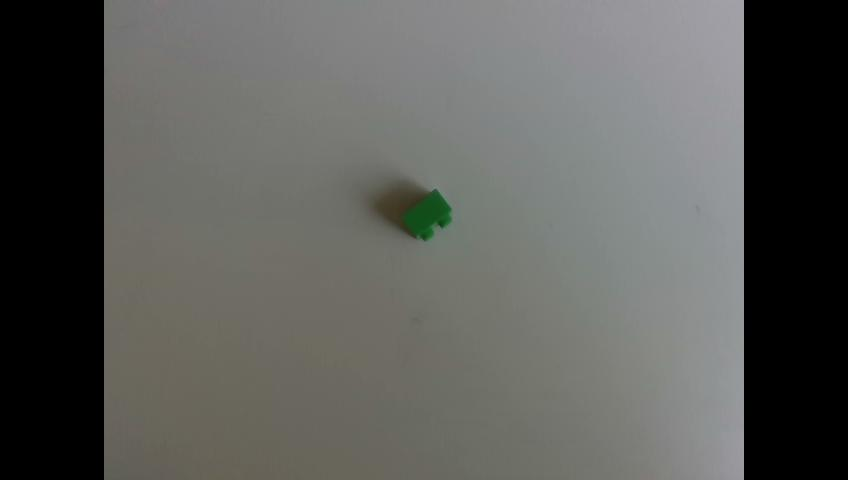2x2_green: (403, 189, 451, 240)
